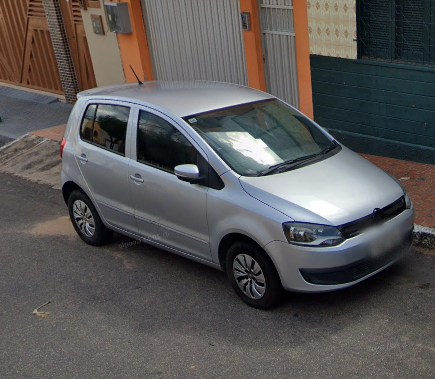car: (55, 60, 422, 319)
